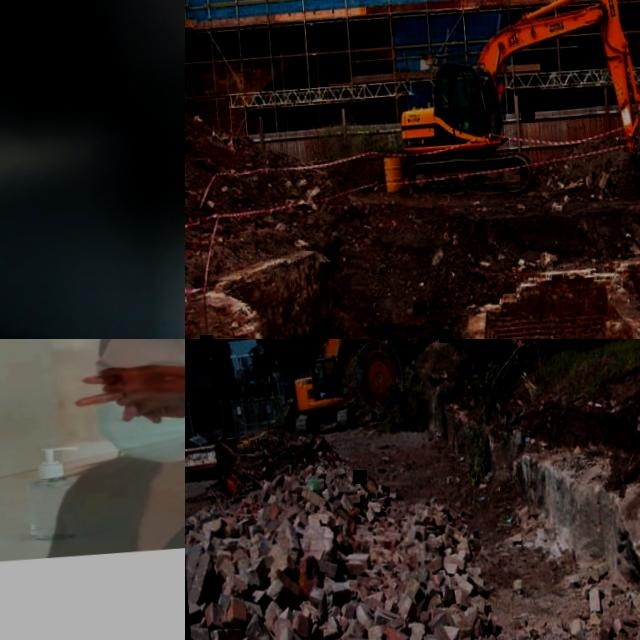Mask: (89, 385, 185, 471)
NO-Safety Vest: (53, 441, 185, 558)
Person: (31, 339, 185, 556)
machinery: (387, 0, 640, 213), (283, 339, 414, 437)
